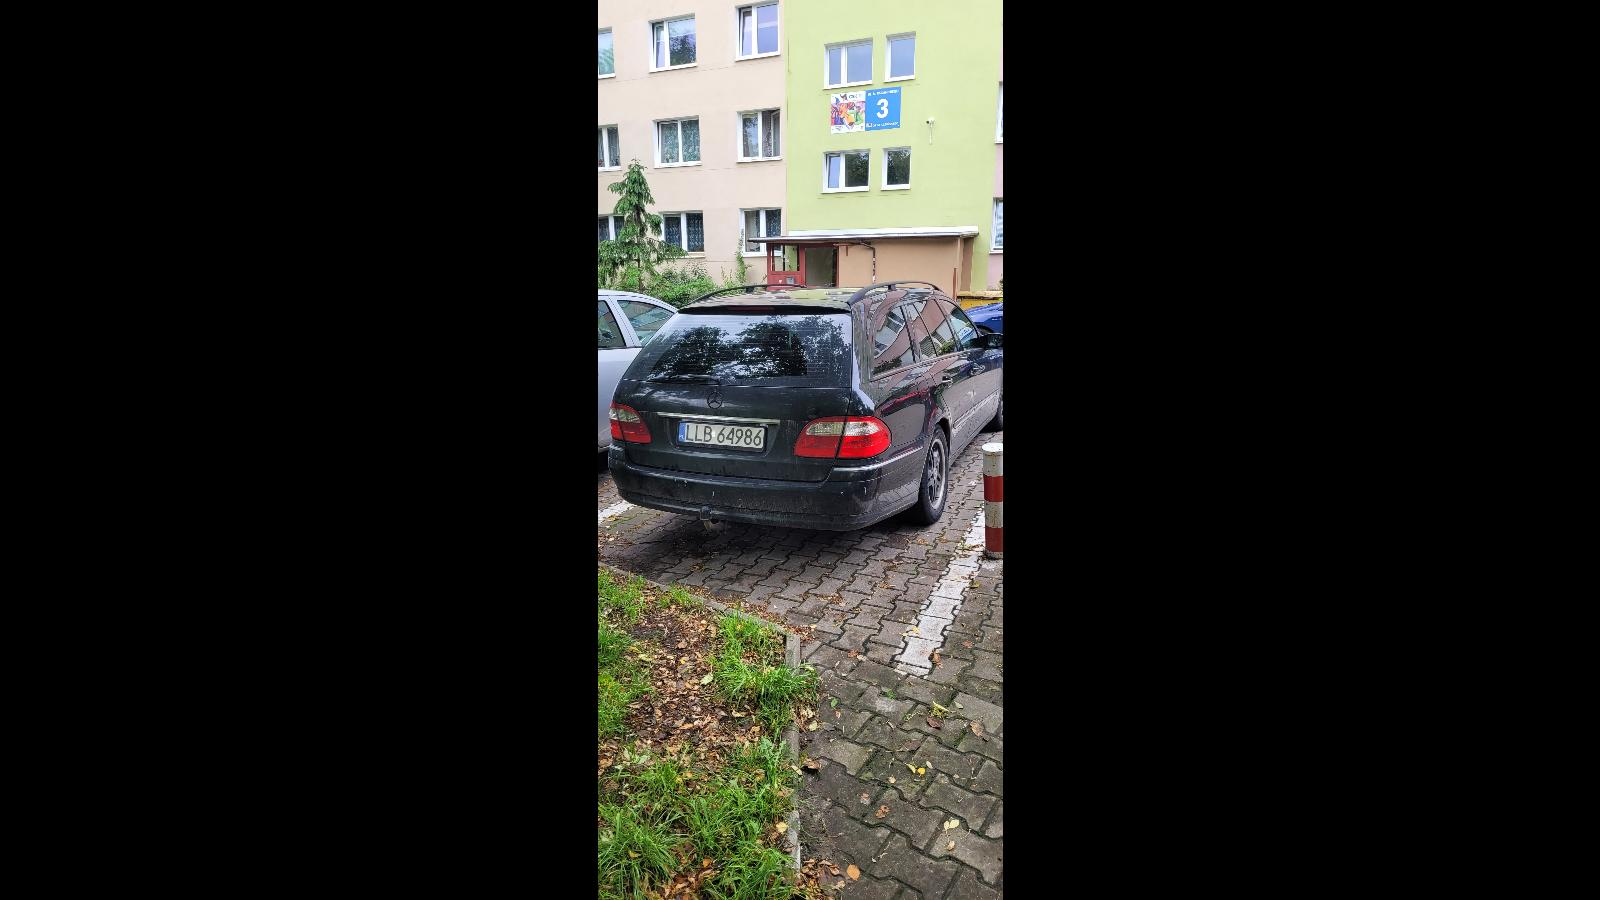plates: (676, 421, 766, 453)
